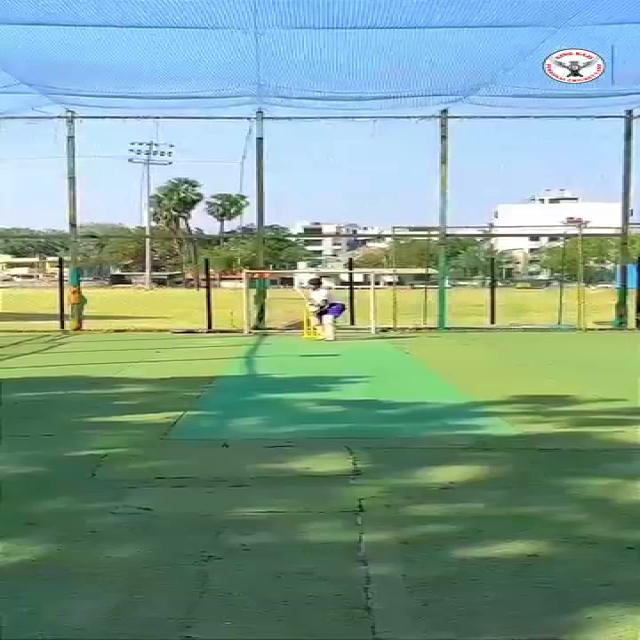batsman: (291, 275, 353, 343)
